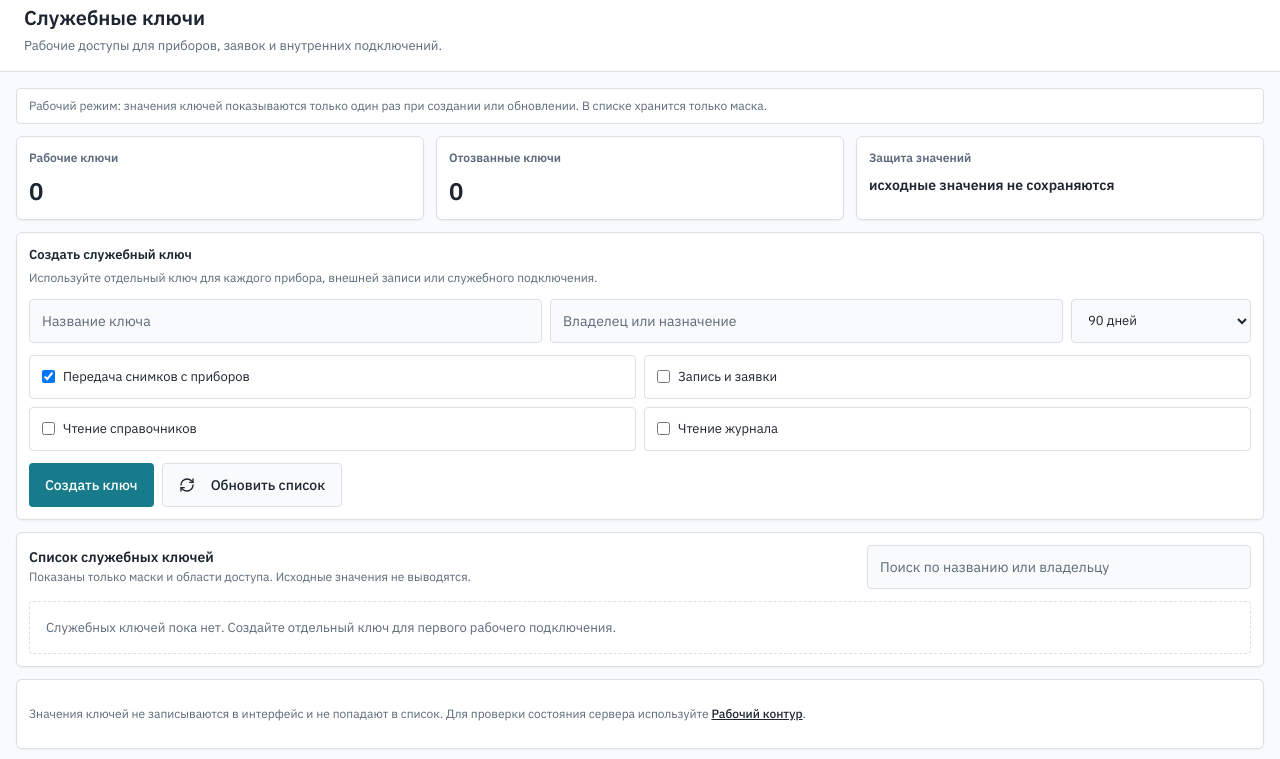
Test: SysApiKeysPage production › creates, hides, rotates, and revokes a service key through the production UI
Expected: the text "Служебных ключей пока нет. Создайте отдельный ключ для первого рабочего подключения." is shown, [46, 618, 616, 636]
In the field named "Название служебного ключа": [286, 320] box [29, 298, 542, 342], type "Проверочный мост РДС"
In the field labelled "Владелец или назначение": [806, 320] box [550, 298, 1063, 342], type "Кабинет"
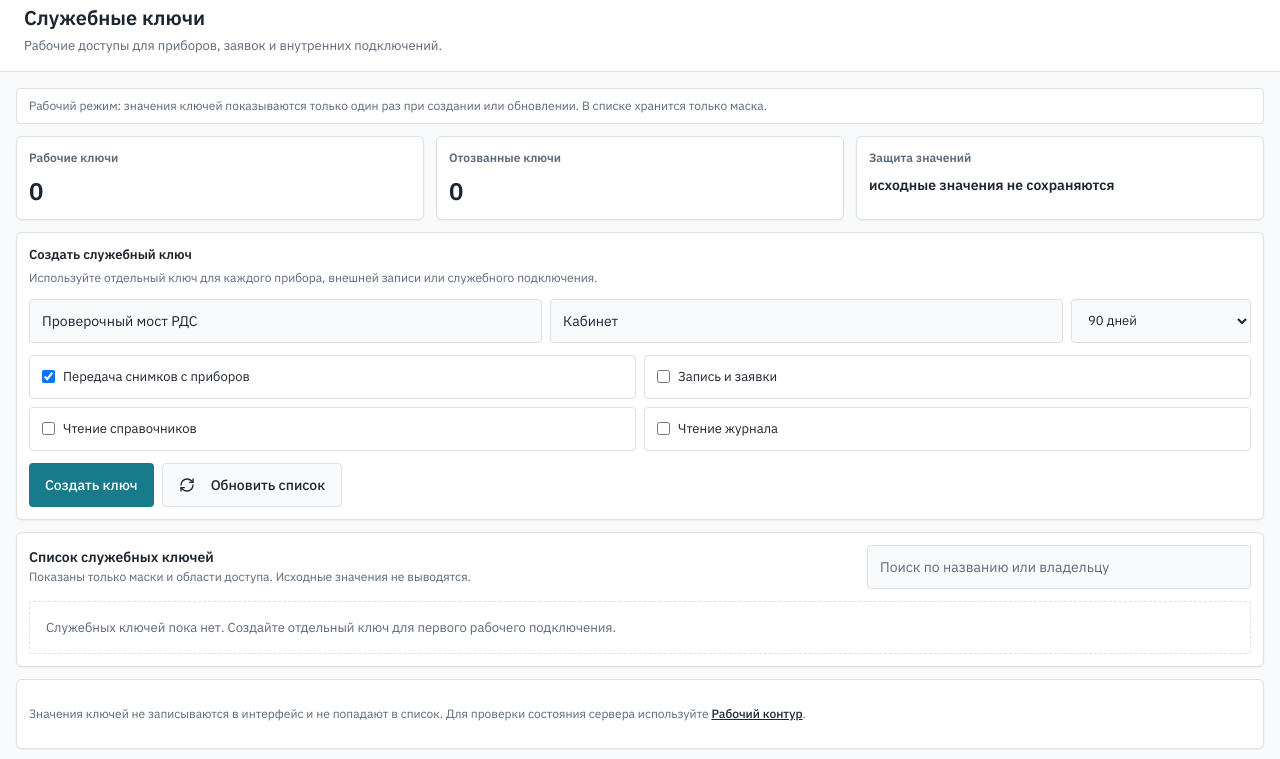
Click the button "Создать ключ": [91, 484] box [29, 462, 154, 506]
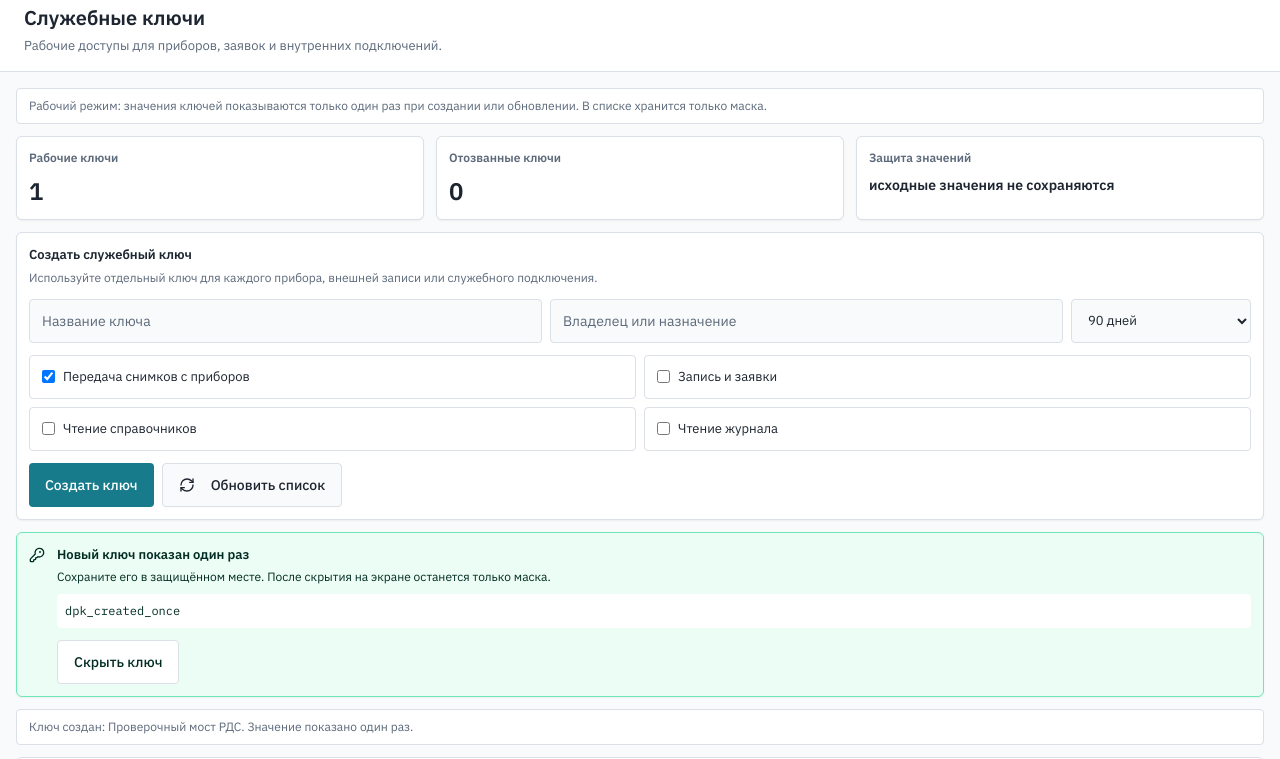
Now the text "dpk_created_once" is shown, box [57, 594, 1251, 628]
Click the button "Скрыть ключ": [118, 662] box [57, 640, 179, 684]
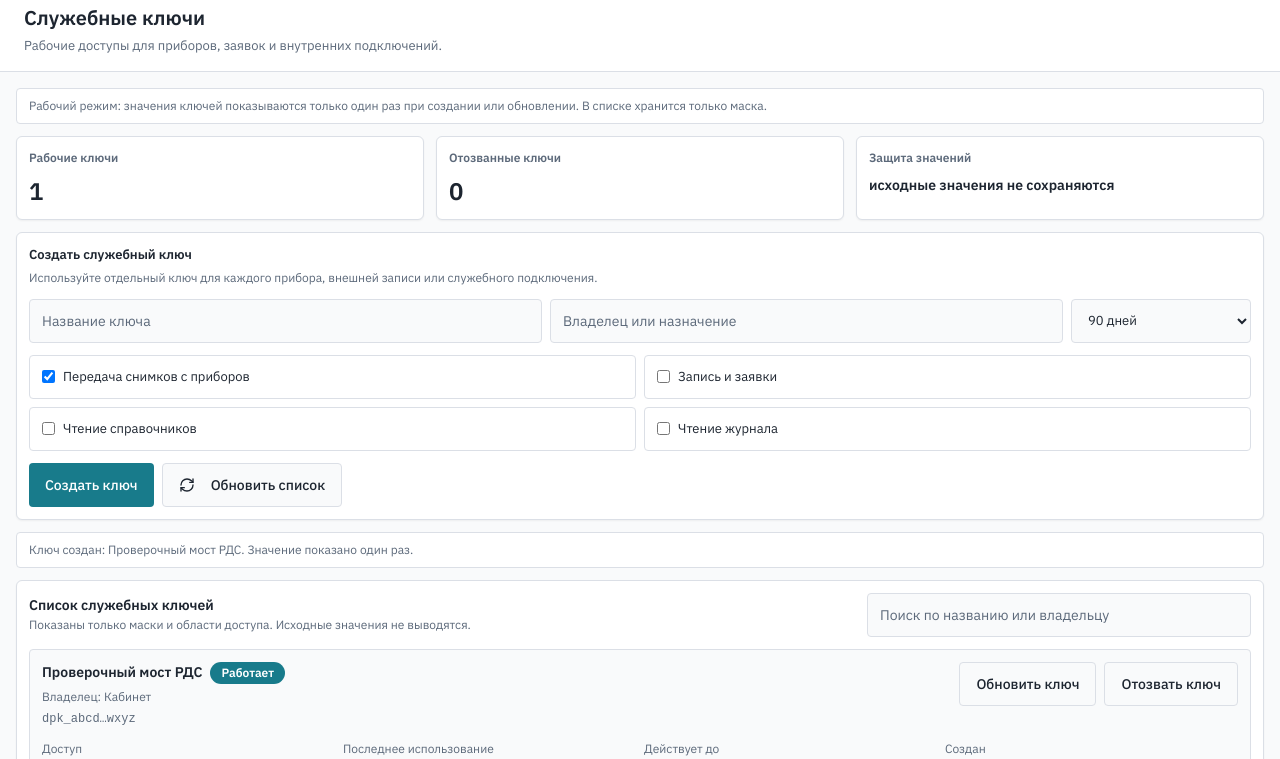
Now the text "Проверочный мост РДС" is shown, box [42, 662, 202, 683]
Now the text "dpk_created_once" is gone
Click the button "Обновить ключ": [1028, 684] box [959, 662, 1096, 706]
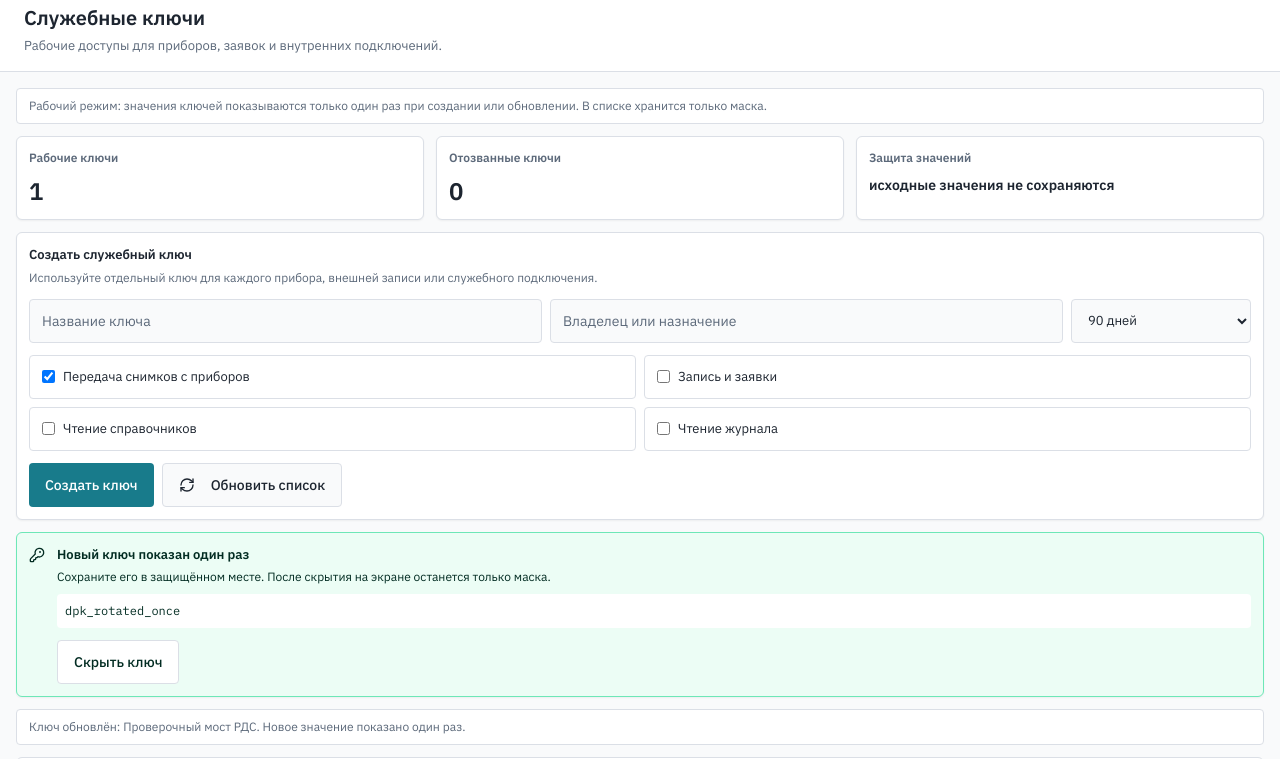
Now the text "dpk_rotated_once" is shown, box [57, 594, 1251, 628]
Click the button "Скрыть ключ": [118, 662] box [57, 640, 179, 684]
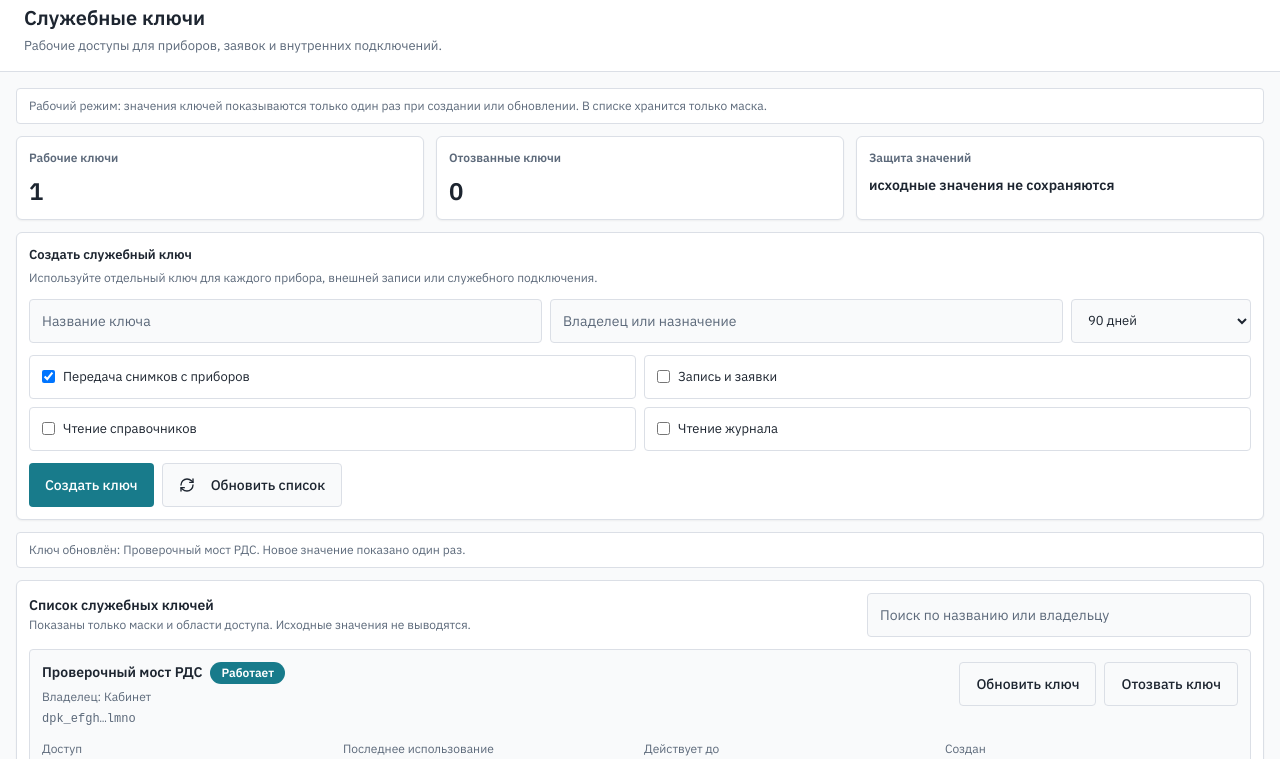
Now the text "dpk_rotated_once" is gone
Click the button "Отозвать ключ": [1171, 684] box [1104, 662, 1238, 706]
(page scrolled)
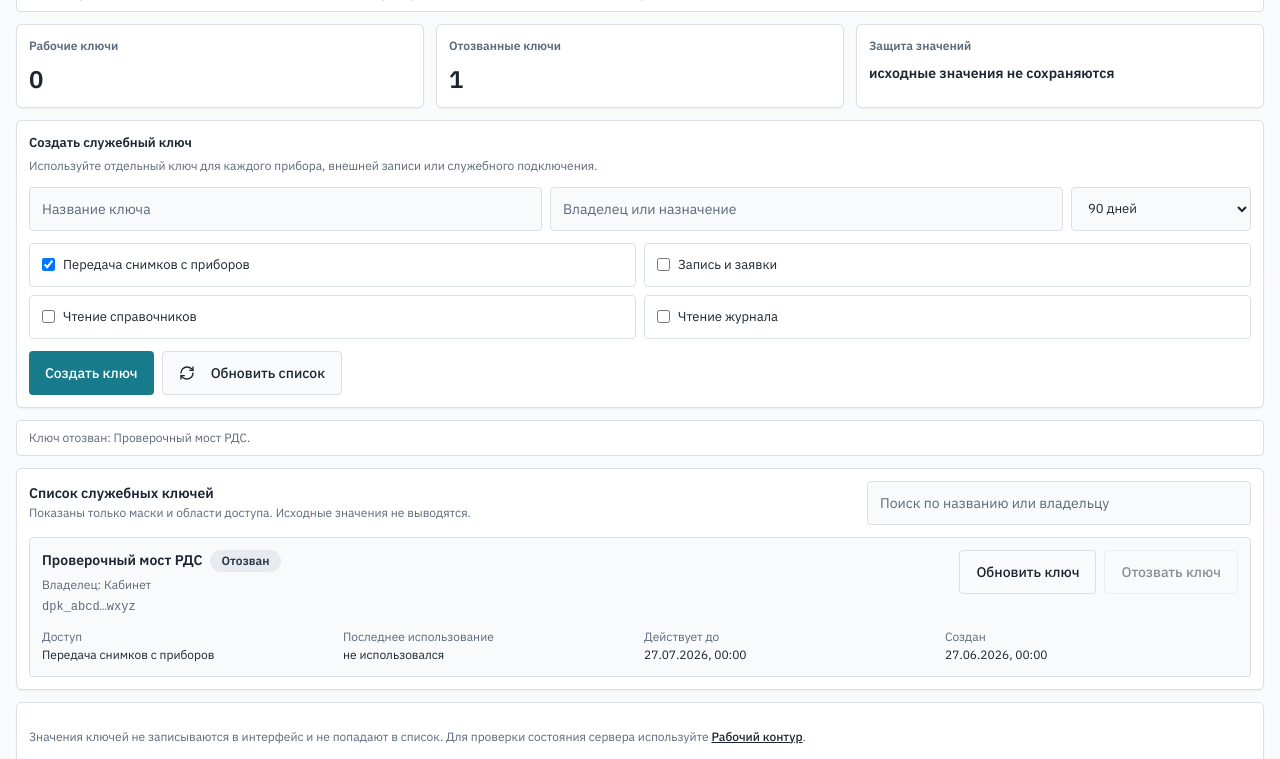
Now the text "Отозван" is shown, box [210, 550, 281, 572]
